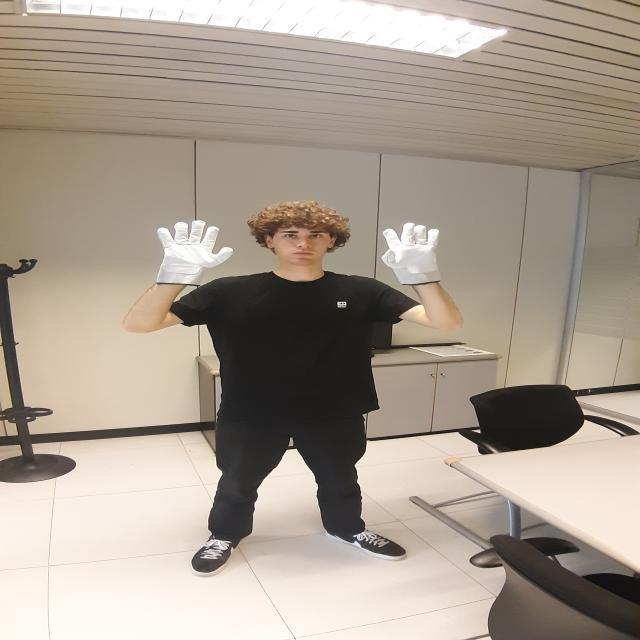gloved_hand: (152, 219, 235, 289), (384, 224, 446, 286)
